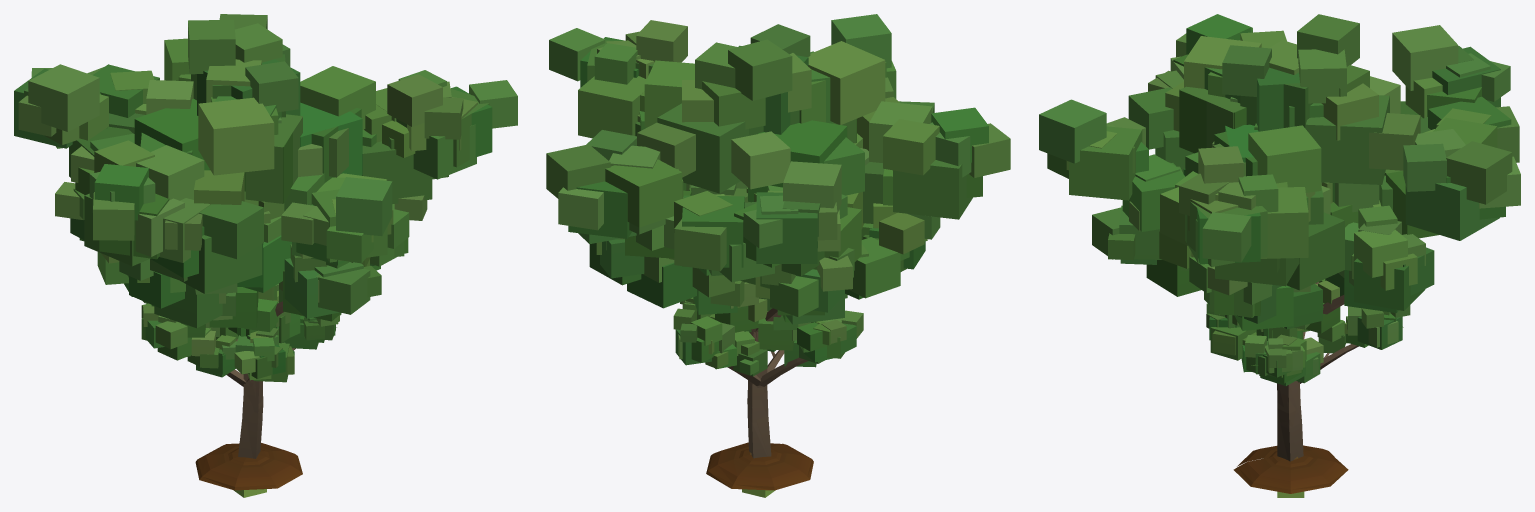
Rendered from sugarapple.glb.
The picture shows the model from 3 angles, left to right: view 1: azimuth 30°, elevation 25°; view 2: azimuth 150°, elevation 25°; view 3: azimuth 270°, elevation 25°; orthographic projection.
Parts seen in each view (by area): view 1: stage4_foliage, stage4_l1_foliage, stage3_foliage, stage2_foliage, stage2_soil, stage2_l1_foliage, stage3_l1_foliage, stage4_l1_bark, stage4_bark; view 2: stage4_foliage, stage4_l1_foliage, stage3_foliage, stage2_foliage, stage3_l1_foliage, stage2_soil, stage2_l1_foliage, stage4_bark, stage2_bark, stage4_l1_bark; view 3: stage4_foliage, stage4_l1_foliage, stage3_foliage, stage2_foliage, stage2_soil, stage3_l1_foliage, stage2_l1_foliage, stage4_bark, stage4_l1_bark.
Part boxes in pixels (<box>): stage4_foliage: <box>14,14,492,287</box>; stage4_l1_foliage: <box>87,19,517,293</box>; stage3_foliage: <box>55,182,409,328</box>; stage2_foliage: <box>141,285,339,382</box>; stage2_soil: <box>195,443,302,490</box>; stage2_l1_foliage: <box>141,283,341,374</box>; stage3_l1_foliage: <box>97,195,427,320</box>; stage4_l1_bark: <box>238,373,263,458</box>; stage4_bark: <box>242,381,262,452</box>; stage4_foliage: <box>546,14,1010,276</box>; stage4_l1_foliage: <box>549,28,934,288</box>; stage3_foliage: <box>589,184,940,324</box>; stage2_foliage: <box>673,297,841,376</box>; stage3_l1_foliage: <box>736,181,924,299</box>; stage2_soil: <box>706,442,813,490</box>; stage2_l1_foliage: <box>680,297,863,358</box>; stage4_bark: <box>747,331,768,458</box>; stage2_bark: <box>727,350,807,386</box>; stage4_l1_bark: <box>747,330,771,456</box>; stage4_foliage: <box>1039,14,1520,290</box>; stage4_l1_foliage: <box>1128,14,1519,273</box>; stage3_foliage: <box>1092,182,1434,330</box>; stage2_foliage: <box>1206,279,1410,385</box>; stage2_soil: <box>1233,445,1348,493</box>; stage3_l1_foliage: <box>1207,266,1322,329</box>; stage2_l1_foliage: <box>1256,324,1320,383</box>; stage4_bark: <box>1277,381,1303,461</box>; stage4_l1_bark: <box>1277,381,1300,459</box>.
Size of the model in its own units: 2.26 by 2.23 by 2.14.
